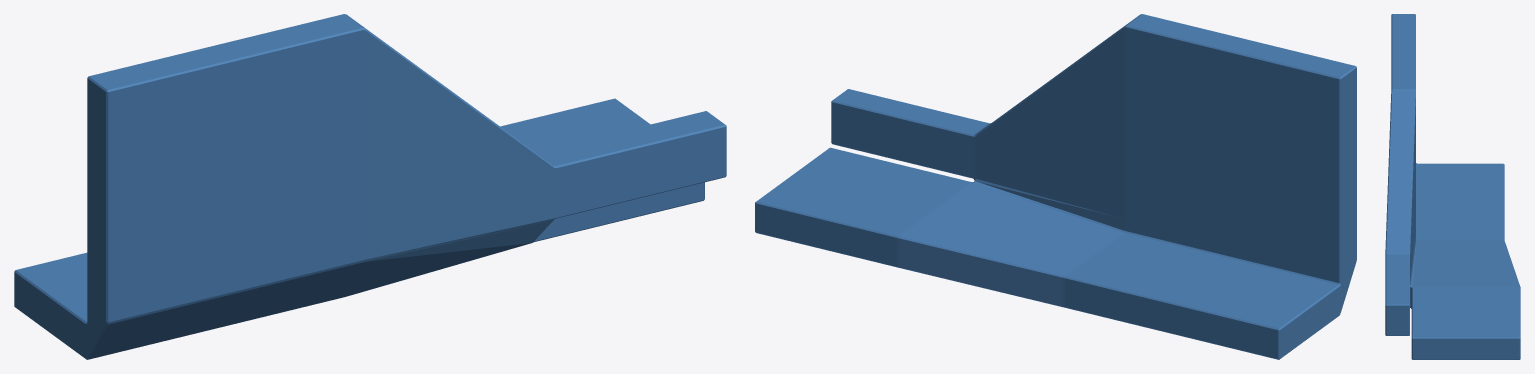
File: VIS_ElbowWristLink.dae
3 renders of one model, left to right at view 1: azimuth 30°, elevation 25°; view 2: azimuth 150°, elevation 25°; view 3: azimuth 270°, elevation 25°, orthographic. The views are drawn at different scales.
Parts seen in each view (by area): view 1: VIS_ElbowWristLink; view 2: VIS_ElbowWristLink; view 3: VIS_ElbowWristLink.
Part boxes in pixels (x1,y1,x2,y2): VIS_ElbowWristLink: [14, 14, 726, 359]; VIS_ElbowWristLink: [755, 14, 1356, 359]; VIS_ElbowWristLink: [1385, 14, 1520, 359].
Size of the model in its own units: 0.2499 by 0.0787 by 0.1105.
